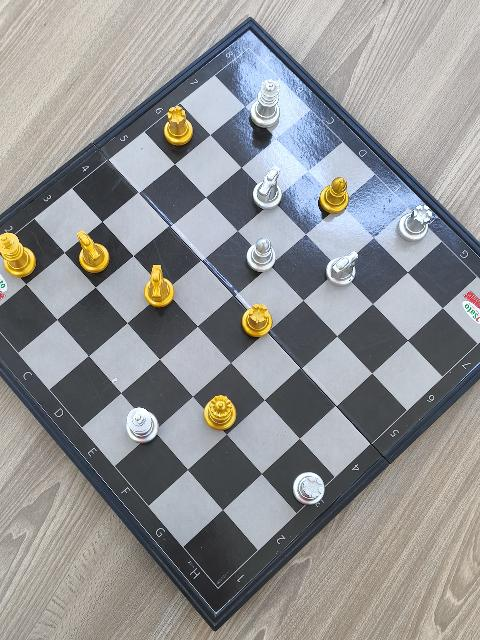black_bishop: (319, 177, 351, 217)
black_king: (0, 233, 37, 278)
black_knight: (76, 231, 111, 277), (145, 263, 174, 309)
black_queen: (204, 395, 237, 432)
black_rook: (164, 105, 194, 148), (241, 303, 272, 337)
white_bishop: (247, 237, 276, 275)
white_king: (125, 404, 159, 446)
white_knight: (252, 168, 283, 212), (326, 250, 359, 289)
white_queen: (250, 79, 281, 128)
white_rook: (397, 202, 434, 243), (292, 470, 325, 505)
